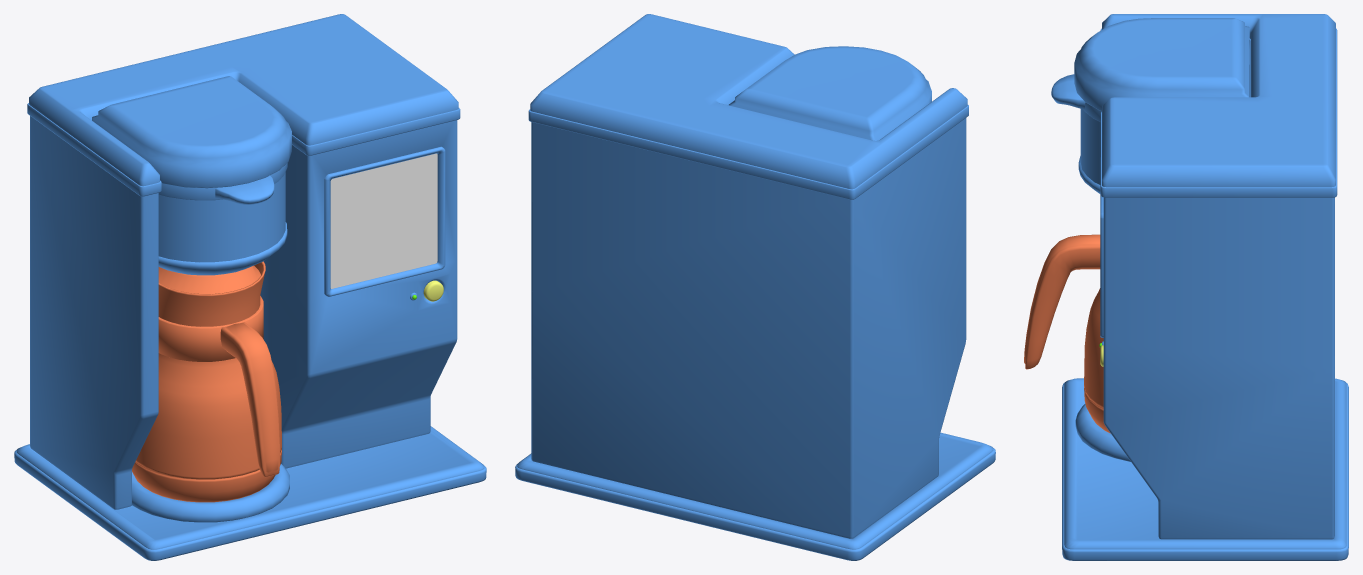
File: CoffeeMaker.fbx
3 views of the same model, side by side, from view 1: azimuth 30°, elevation 25°; view 2: azimuth 150°, elevation 25°; view 3: azimuth 270°, elevation 25° (orthographic). The views are drawn at different scales.
Visible parts, largest first — view 1: Coffeemaker_Base, Coffeepot, LED_Outer_Glass; view 2: Coffeemaker_Base; view 3: Coffeemaker_Base, Coffeepot.
Part boxes in pixels (<box>): Coffeemaker_Base: <box>14,14,486,560</box>; Coffeepot: <box>132,261,281,502</box>; LED_Outer_Glass: <box>330,153,437,288</box>; Coffeemaker_Base: <box>515,14,995,560</box>; Coffeemaker_Base: <box>1051,14,1348,560</box>; Coffeepot: <box>1024,234,1110,433</box>.
Bounding box in the file's own units: 39.27 × 42.45 × 31.61.
